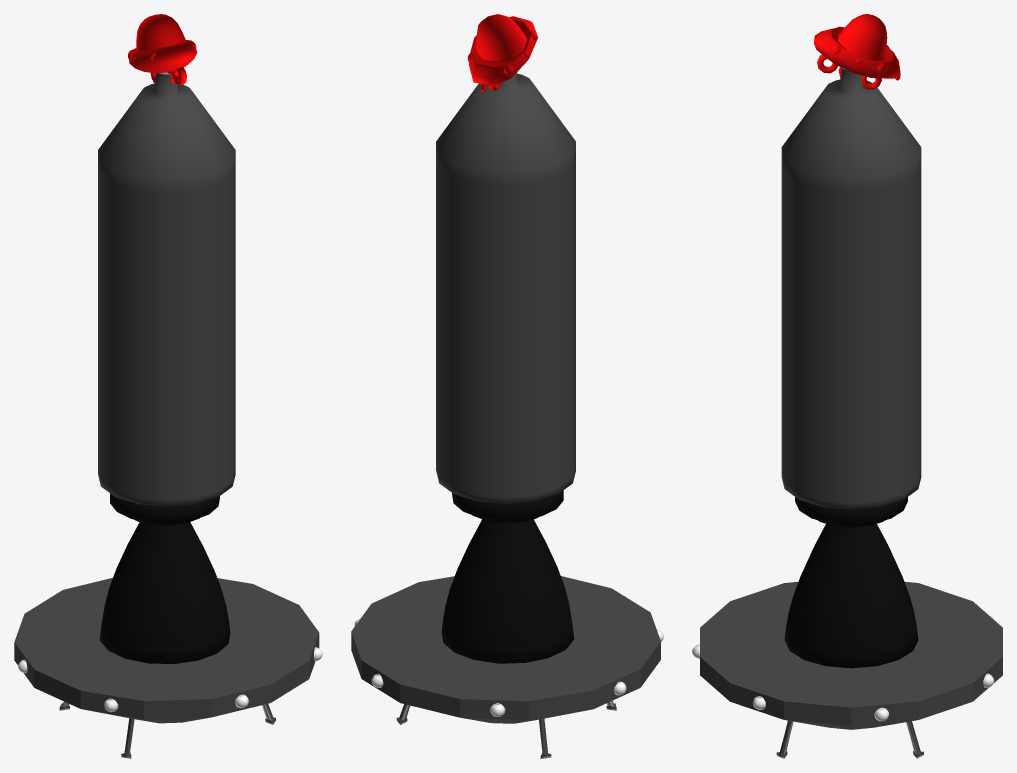
File: SpaceX.FBX
The picture shows the model from 3 angles, left to right: view 1: azimuth 30°, elevation 25°; view 2: azimuth 150°, elevation 25°; view 3: azimuth 270°, elevation 25°; orthographic projection.
Visible parts, largest first — view 1: object 1, Cone001; view 2: object 1, Cone001; view 3: object 1, Cone001.
Boxes of the visible parts, bbox=[...] form: object 1: bbox=[14, 14, 319, 756]; Cone001: bbox=[18, 647, 322, 758]; object 1: bbox=[351, 14, 660, 756]; Cone001: bbox=[354, 619, 663, 758]; object 1: bbox=[700, 14, 1002, 756]; Cone001: bbox=[692, 616, 994, 758].
Bounding box in the file's own units: 44.76 × 112 × 44.62.
